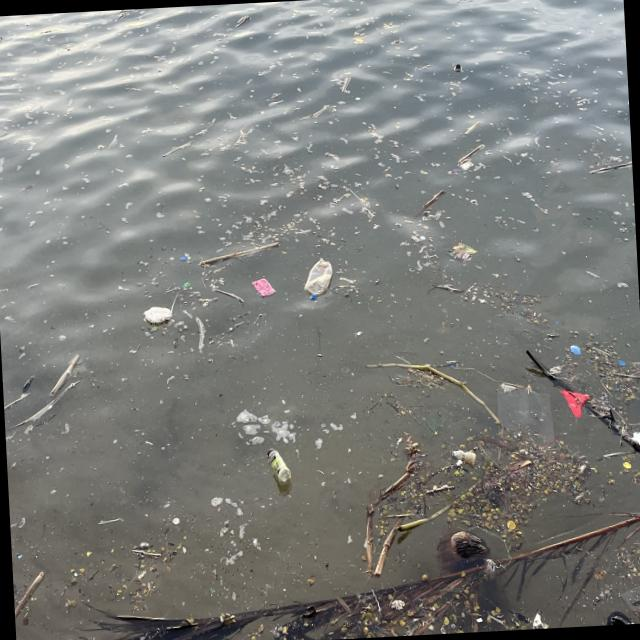foam: (143, 306, 174, 326), (630, 432, 640, 448)
plastic bottle: (305, 259, 335, 302), (269, 447, 293, 485), (454, 451, 479, 466)
